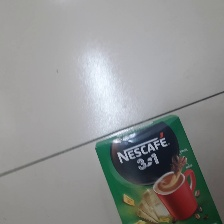Nes Rang: (94, 114, 223, 224)
